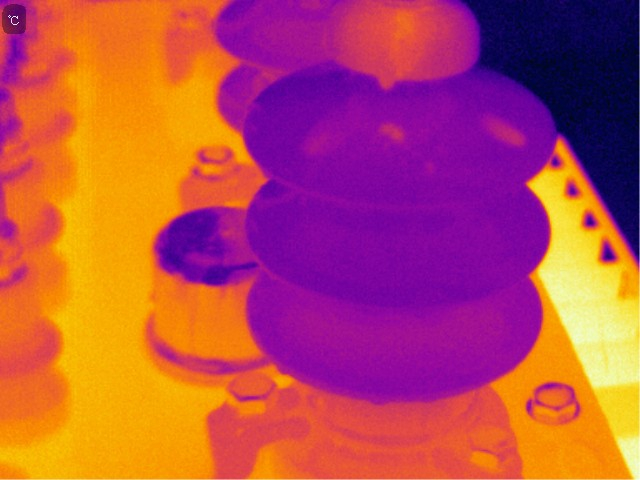Oil: (333, 1, 479, 94), (477, 109, 531, 153), (304, 114, 340, 162), (374, 118, 408, 145), (274, 362, 291, 378), (370, 392, 386, 408), (425, 158, 439, 175)
